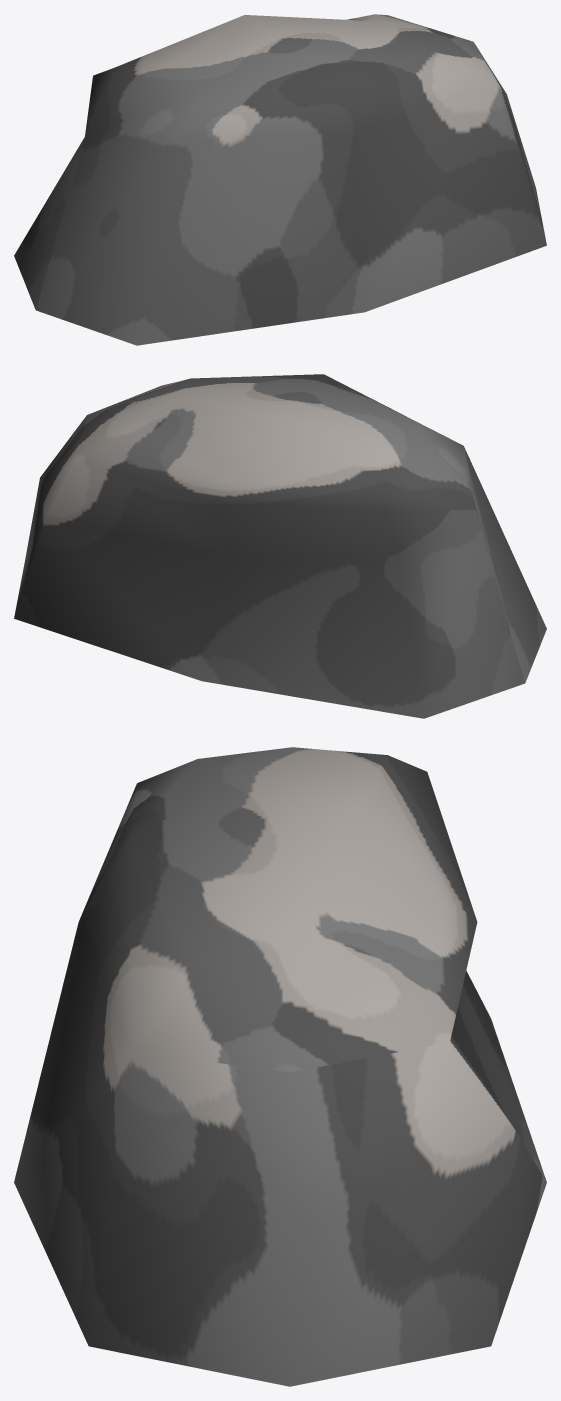
File: Cat Rock_preview_3DS_simplified.glb
3 renders of one model, top to bottom at view 1: azimuth 30°, elevation 25°; view 2: azimuth 150°, elevation 25°; view 3: azimuth 270°, elevation 25°, orthographic. The views are drawn at different scales.
Visible parts, largest first — view 1: Marine Park Empire model; view 2: Marine Park Empire model; view 3: Marine Park Empire model.
Boxes of the visible parts, bbox=[...] form: Marine Park Empire model: bbox=[14, 14, 546, 345]; Marine Park Empire model: bbox=[14, 374, 546, 718]; Marine Park Empire model: bbox=[14, 747, 546, 1386].
Size of the model in its own units: 166 by 70.96 by 93.7.
Materials: 1 (1 with a texture image).
